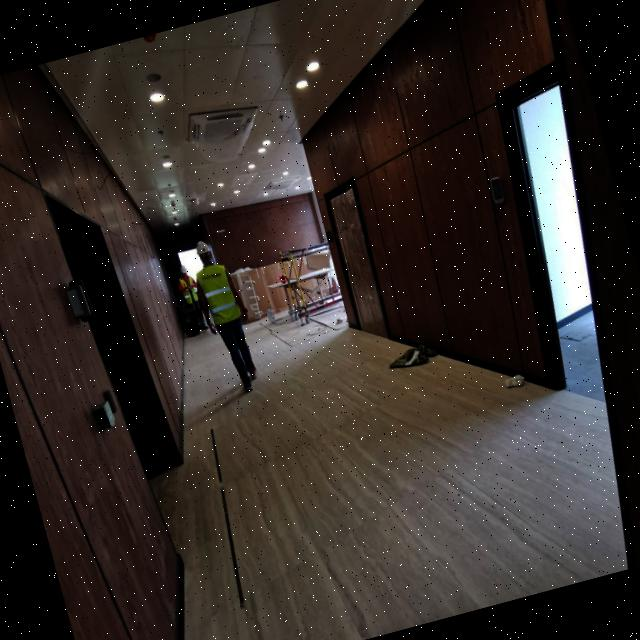Helmet: (194, 239, 213, 262), (180, 266, 189, 277)
Jacket: (193, 255, 241, 327), (178, 273, 200, 305)
